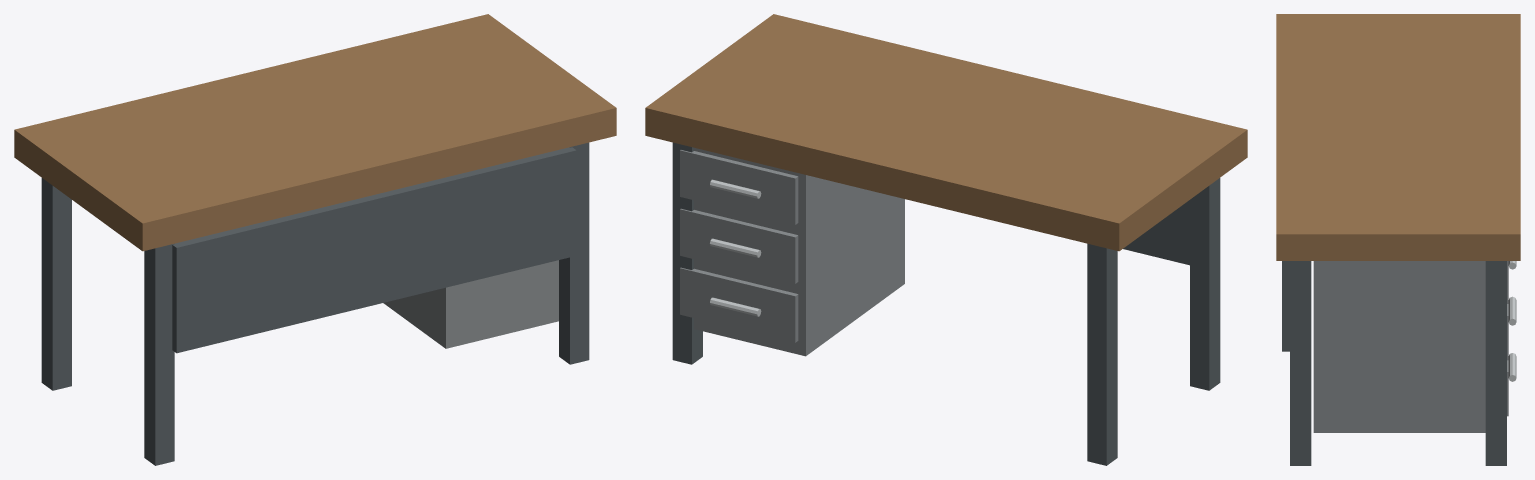
File: HomebaseDesk_LOD00.gltf
The picture shows the model from 3 angles, left to right: view 1: azimuth 30°, elevation 25°; view 2: azimuth 150°, elevation 25°; view 3: azimuth 270°, elevation 25°; orthographic projection. The views are drawn at different scales.
Parts seen in each view (by area): view 1: HomebaseDesk_node; view 2: HomebaseDesk_node; view 3: HomebaseDesk_node.
Part boxes in pixels (left/top/right/bottom): HomebaseDesk_node: left=14, top=14, right=616, bottom=465; HomebaseDesk_node: left=645, top=14, right=1247, bottom=465; HomebaseDesk_node: left=1276, top=14, right=1520, bottom=465.
Bounding box in the file's own units: 1.6 × 0.815 × 0.75.
